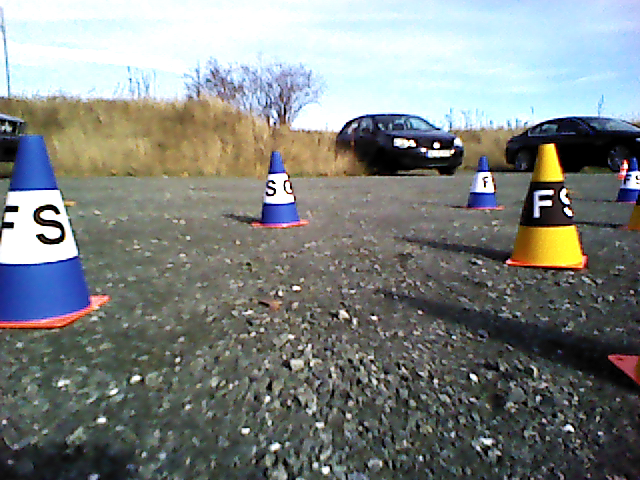bluecone: (1, 135, 86, 320), (261, 152, 299, 223), (469, 157, 496, 207), (619, 159, 640, 200)
yellowcone: (513, 143, 583, 261)
